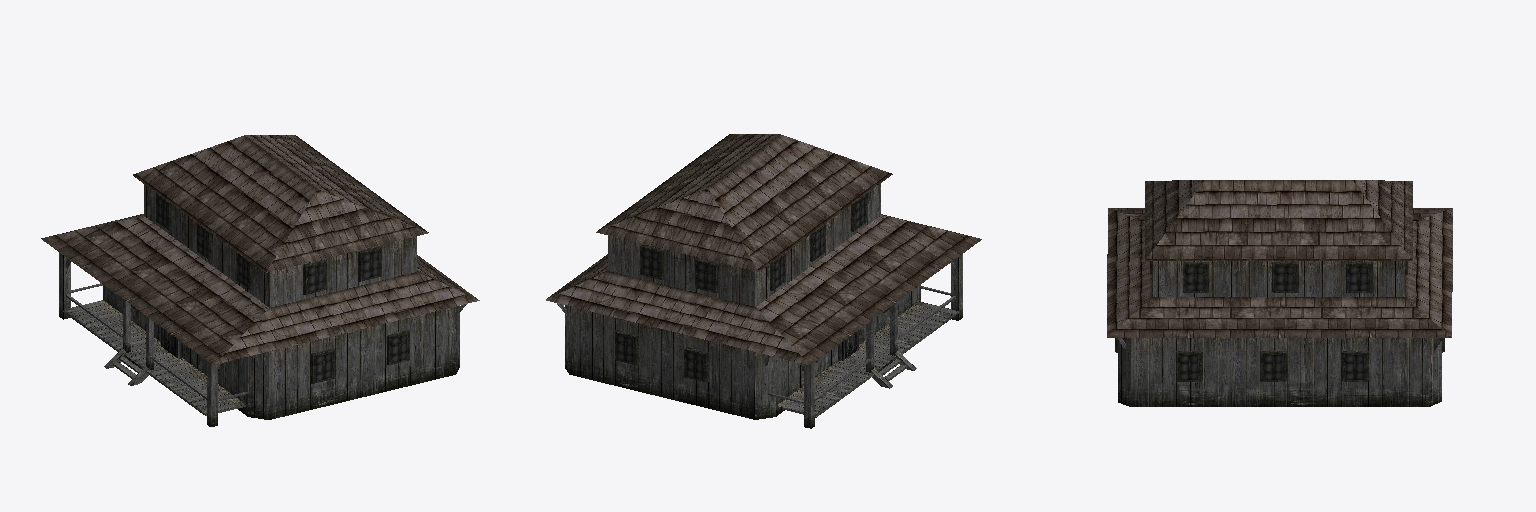
3 renders of one model, left to right at view 1: azimuth 30°, elevation 25°; view 2: azimuth 150°, elevation 25°; view 3: azimuth 270°, elevation 25°, orthographic.
Parts seen in each view (by area): view 1: default; view 2: default; view 3: default.
Part boxes in pixels (left/top/right/bottom): default: left=41, top=135, right=479, bottom=426; default: left=546, top=134, right=981, bottom=428; default: left=1107, top=180, right=1452, bottom=406.
Bounding box in the file's own units: 12.86 × 7.9 × 14.08.
Materials: 1 (1 with a texture image).